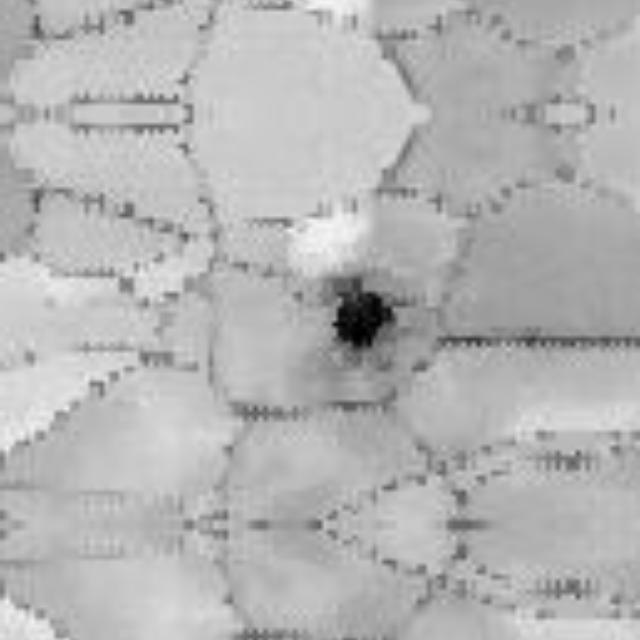good_void: (325, 269, 400, 363)
